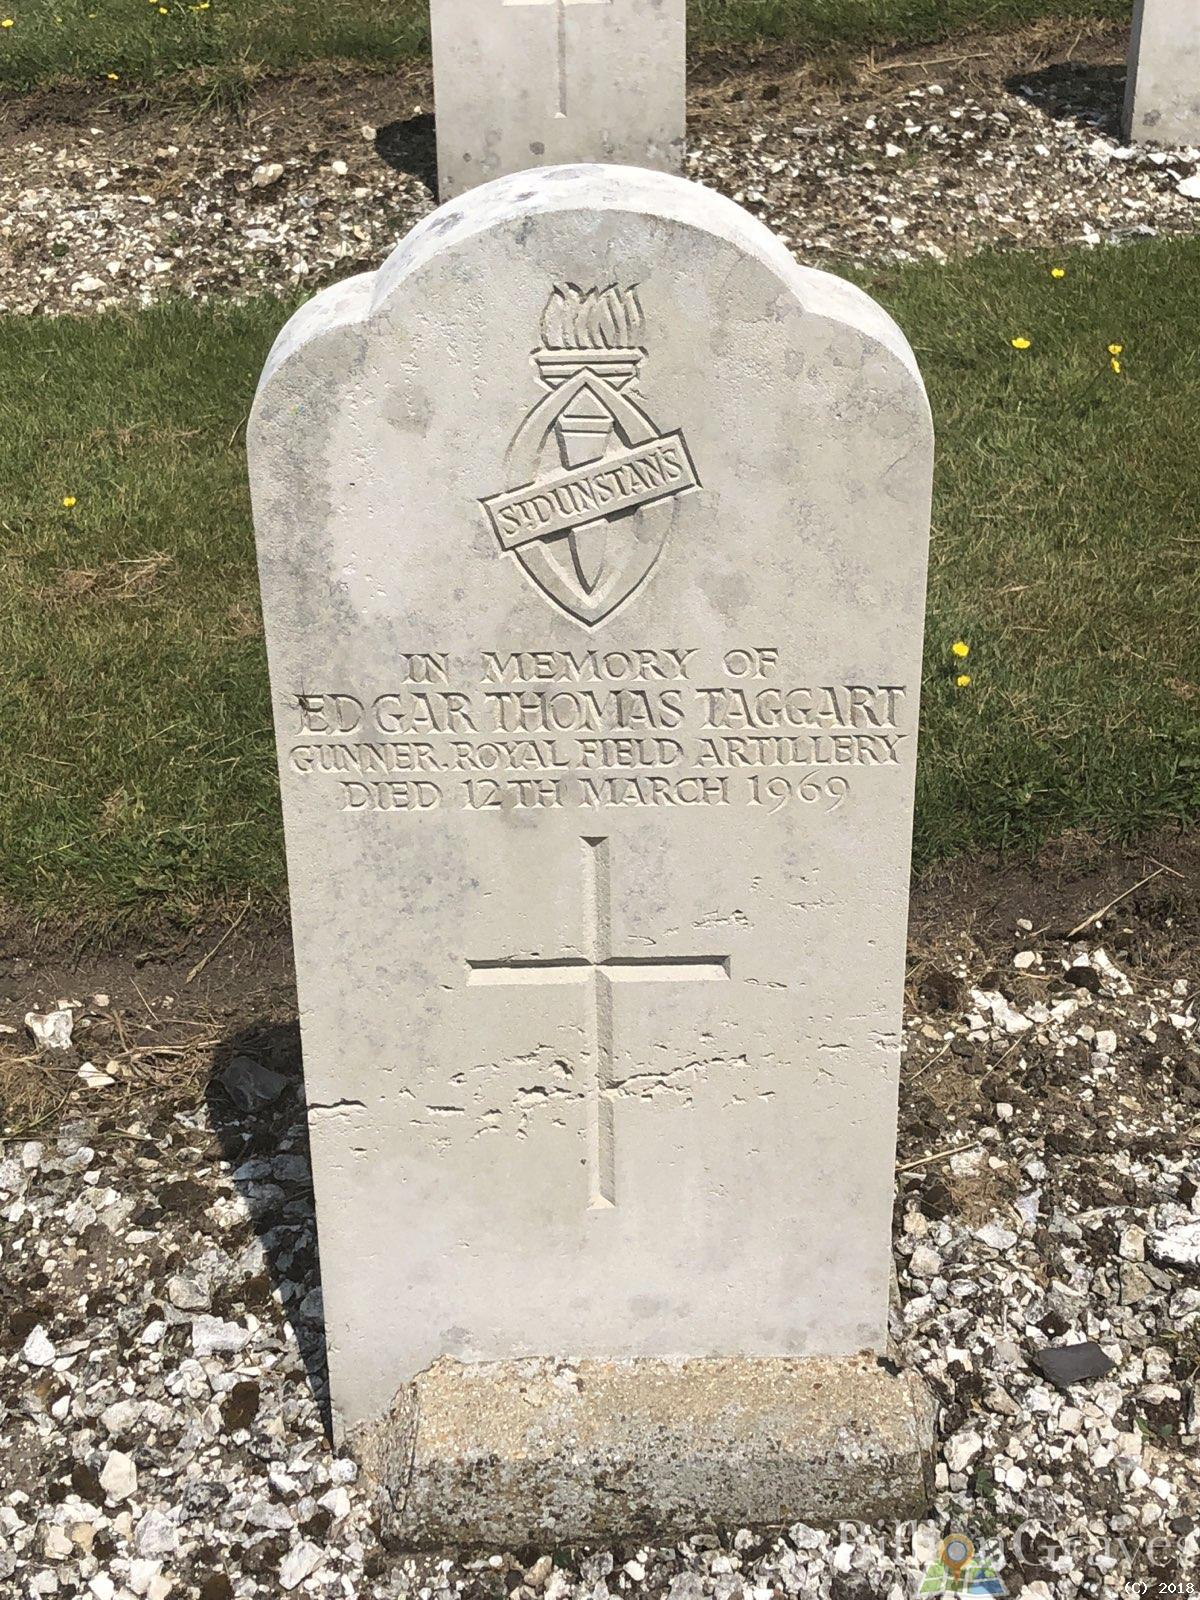military: (236, 132, 961, 1587)
